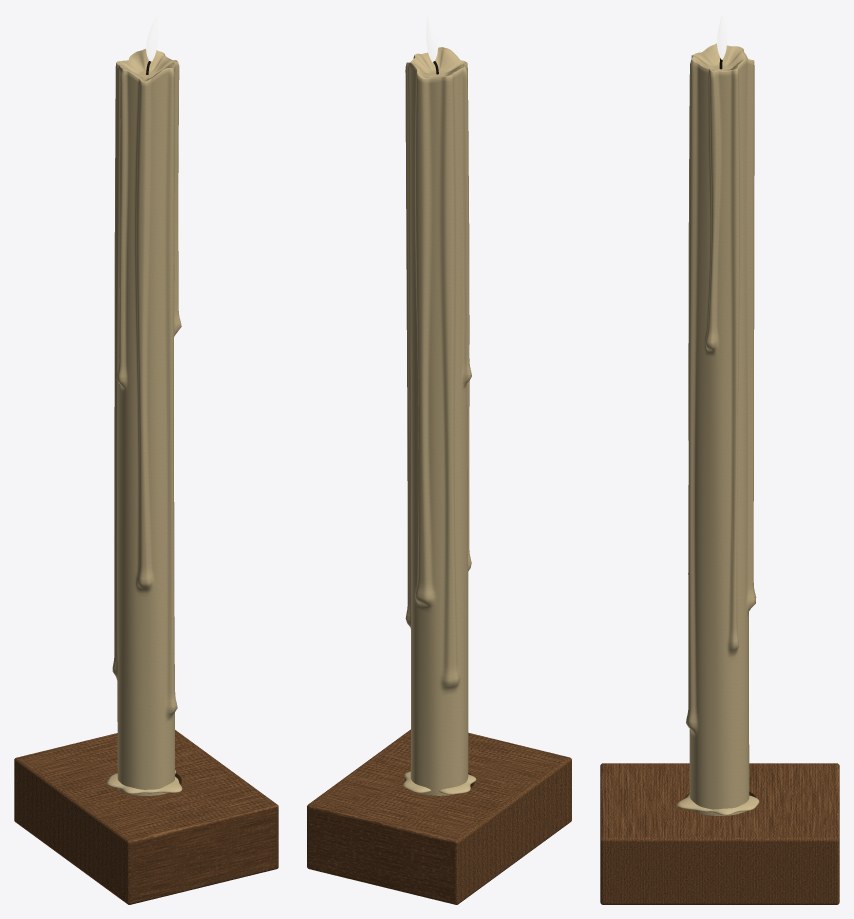
Rendered from cirio_2.gltf.
3 renders of one model, left to right at view 1: azimuth 30°, elevation 25°; view 2: azimuth 150°, elevation 25°; view 3: azimuth 270°, elevation 25°, orthographic. The views are drawn at different scales.
Parts seen in each view (by area): view 1: cera_2, base_madera_individual, cera_acumulada_2; view 2: cera_2, base_madera_individual, cera_acumulada_2; view 3: cera_2, base_madera_individual, cera_acumulada_2.
Boxes of the visible parts, x1,y1,x2,y2 form: cera_2: (112,48,181,795); base_madera_individual: (14,730,278,904); cera_acumulada_2: (107,770,182,793); cera_2: (405,47,471,795); base_madera_individual: (307,729,571,904); cera_acumulada_2: (403,771,476,794); cera_2: (686,43,756,815); base_madera_individual: (600,763,839,904); cera_acumulada_2: (677,794,759,815).
Size of the model in its own units: 0.11 by 0.574 by 0.145.
Materials: 4 (2 with a texture image).
